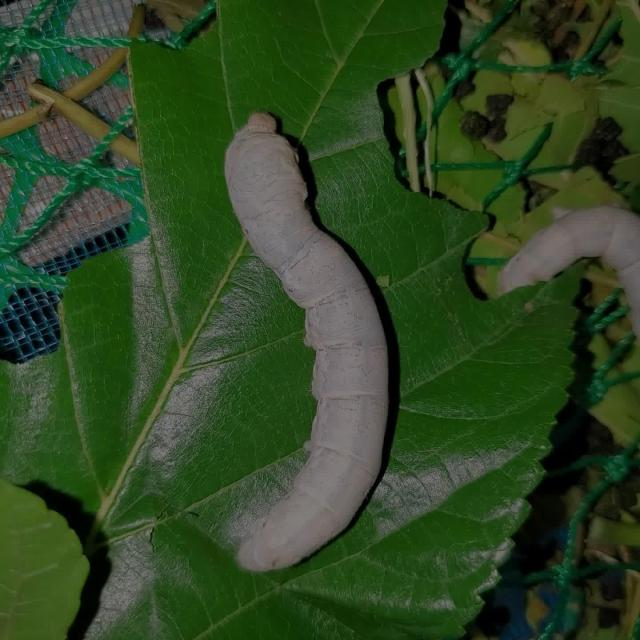Healthy: (196, 101, 434, 585)
